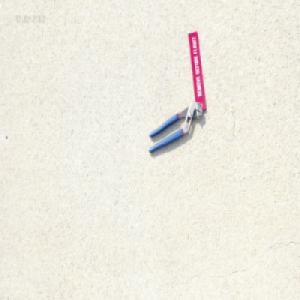Label: (187, 33, 205, 111)
Pliers: (147, 102, 202, 153)
